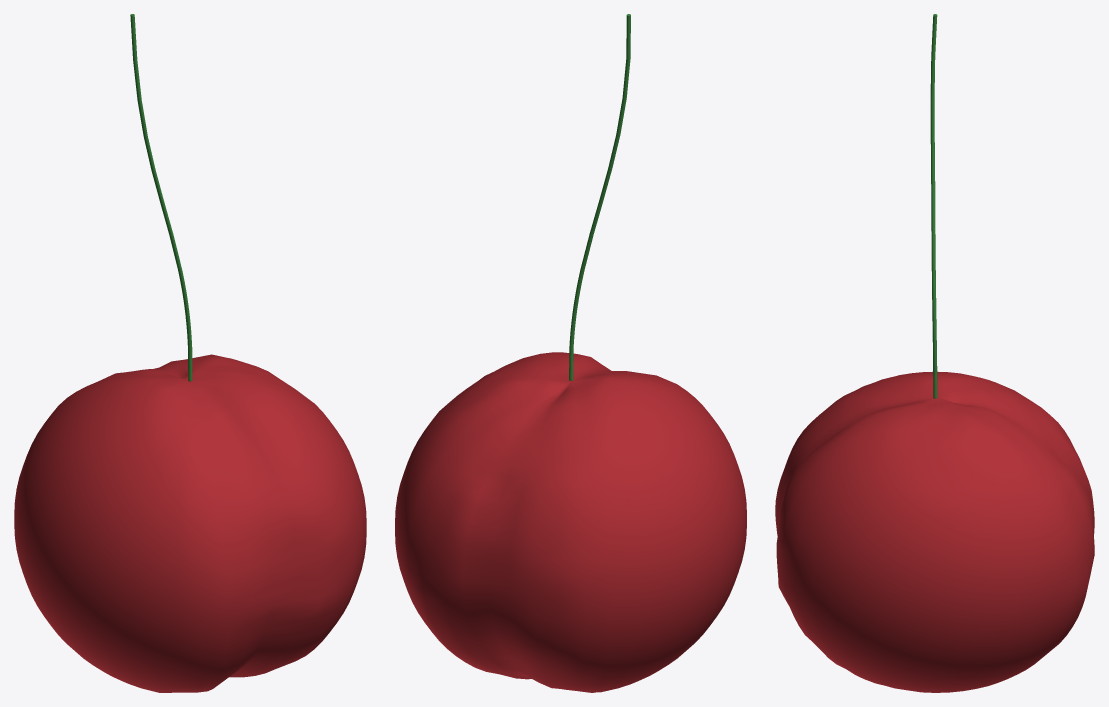
The model's file is Cherry.fbx.
3 views of the same model, side by side, from view 1: azimuth 30°, elevation 25°; view 2: azimuth 150°, elevation 25°; view 3: azimuth 270°, elevation 25° (orthographic). The views are drawn at different scales.
Visible parts, largest first — view 1: pCylinder2; view 2: pCylinder2; view 3: pCylinder2.
Part boxes in pixels (bbox=[...]): pCylinder2: bbox=[14, 14, 366, 692]; pCylinder2: bbox=[395, 14, 746, 692]; pCylinder2: bbox=[775, 14, 1094, 692].
Bounding box in the file's own units: 147 × 315 × 144.
